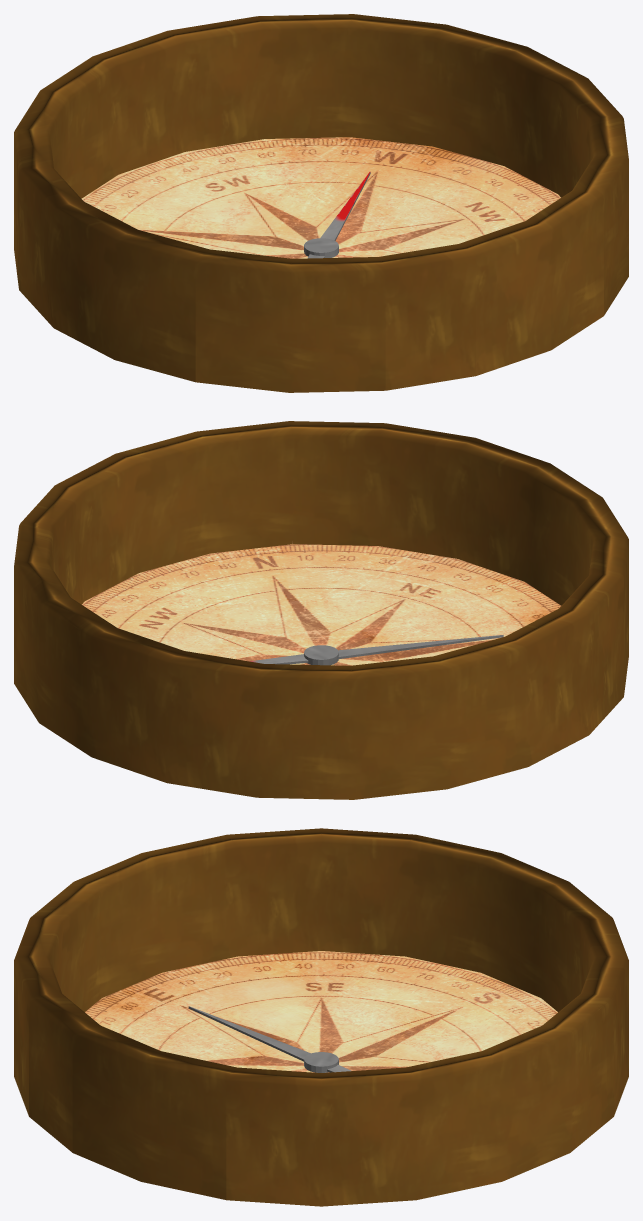
Rendered from House_Compass_v01.fbx.
The picture shows the model from 3 angles, top to bottom: view 1: azimuth 30°, elevation 25°; view 2: azimuth 150°, elevation 25°; view 3: azimuth 270°, elevation 25°; orthographic projection.
Parts seen in each view (by area): view 1: Body, Needles; view 2: Body, Needles; view 3: Body, Needles.
Part boxes in pixels (x1,y1,x2,y2): Body: (14, 14, 628, 392); Needles: (304, 171, 370, 258); Body: (14, 421, 628, 799); Needles: (249, 635, 503, 665); Body: (14, 828, 628, 1206); Needles: (188, 1006, 351, 1072).
Bounding box in the file's own units: 17.39 × 17.39 × 3.74.
2 materials, 2 textured.
